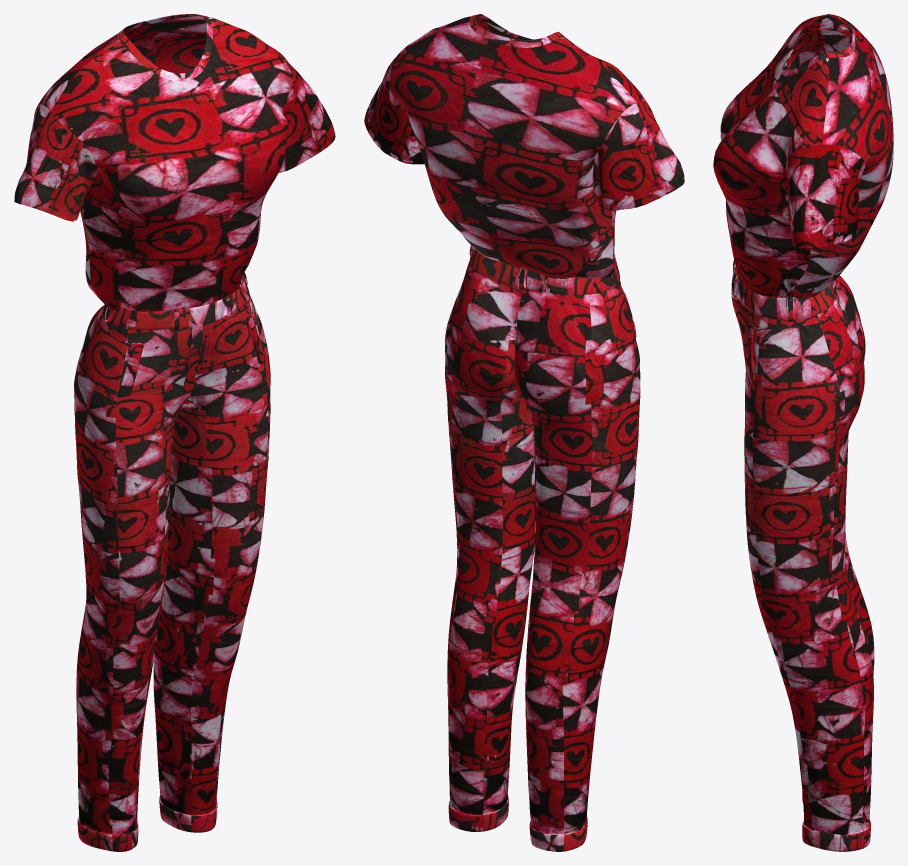
The model's file is tshirt_and_trousers.glb.
3 views of the same model, side by side, from view 1: azimuth 30°, elevation 25°; view 2: azimuth 150°, elevation 25°; view 3: azimuth 270°, elevation 25° (orthographic).
Visible parts, largest first — view 1: all; view 2: all; view 3: all.
Boxes of the visible parts, x1,y1,x2,y2 form: all: [14, 14, 335, 851]; all: [364, 14, 684, 851]; all: [713, 14, 893, 851].
Size of the model in its own units: 0.2379 by 0.5748 by 0.1186.
Materials: 1 (1 with a texture image).
